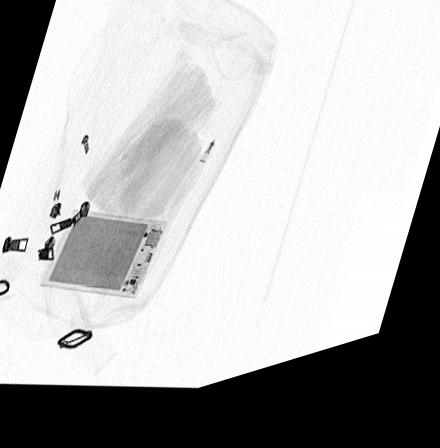Powerbank: (39, 211, 168, 307)
